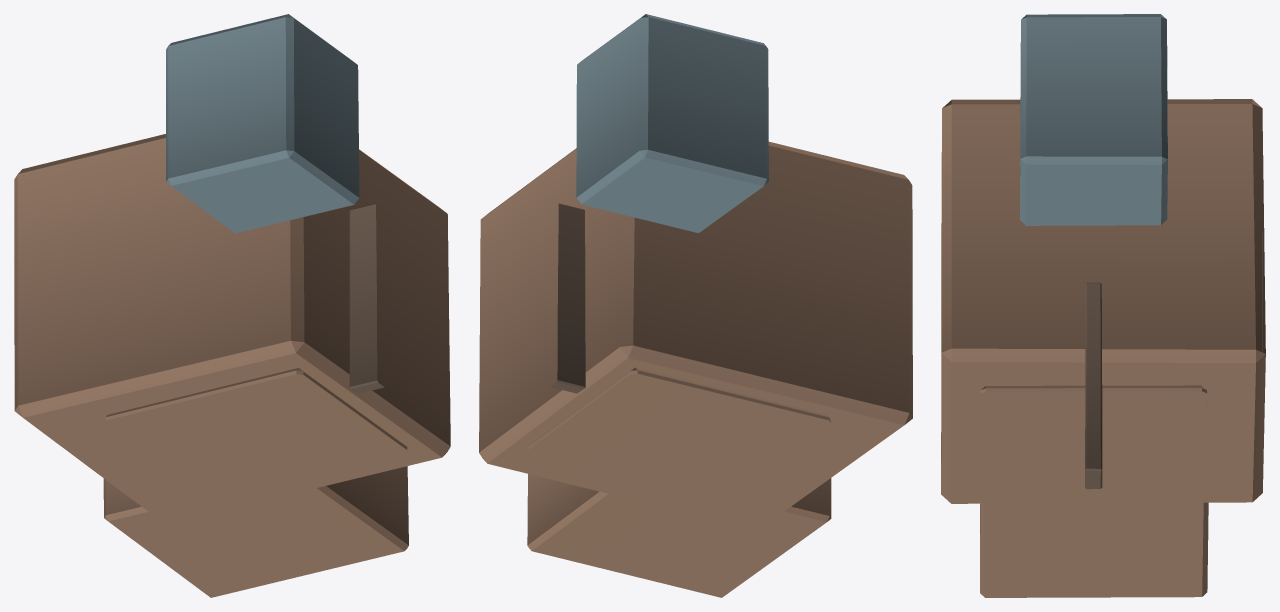
File: vase.glb
3 views of the same model, side by side, from view 1: azimuth 30°, elevation 25°; view 2: azimuth 150°, elevation 25°; view 3: azimuth 270°, elevation 25° (orthographic). The views are drawn at different scales.
Visible parts, largest first — view 1: Belly, Neck, Base, Crack; view 2: Belly, Neck, Base, Crack; view 3: Belly, Neck, Base, Crack.
Boxes of the visible parts, box(x1,y1,x2,y2) form: Belly: box(14, 134, 450, 524); Neck: box(166, 14, 359, 233); Base: box(103, 368, 408, 597); Crack: box(349, 203, 384, 393); Belly: box(479, 141, 912, 530); Neck: box(576, 14, 768, 233); Base: box(527, 367, 831, 597); Crack: box(550, 203, 585, 393); Belly: box(941, 99, 1265, 503); Neck: box(1020, 14, 1167, 225); Base: box(980, 385, 1208, 597); Crack: box(1085, 282, 1102, 489).
Bounding box in the file's own units: 0.4407 × 0.6765 × 0.3924.
